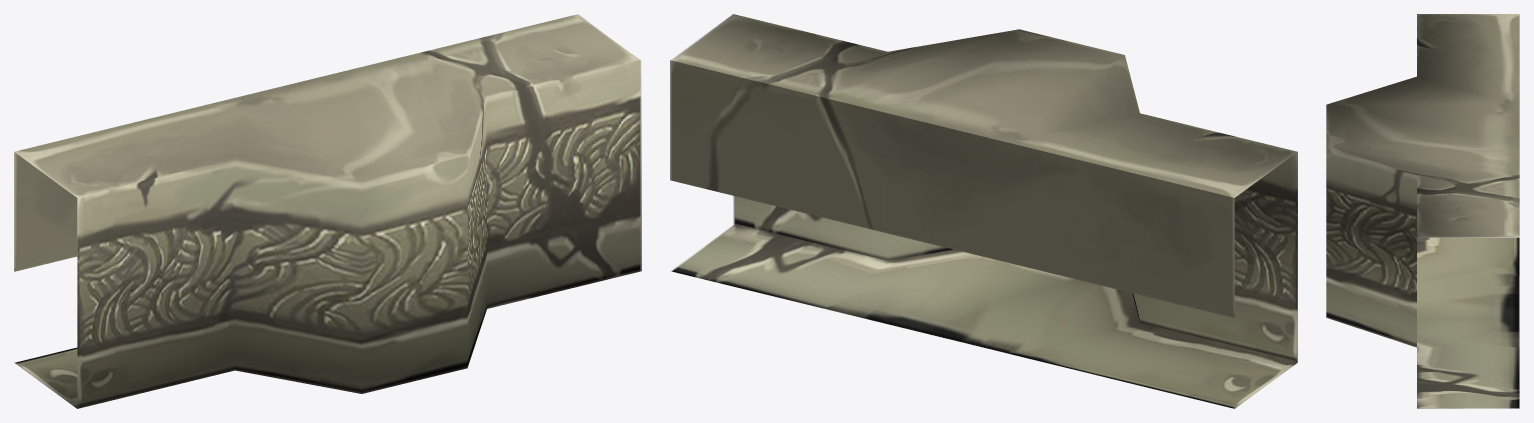
File: wall_top2.fbx
The picture shows the model from 3 angles, left to right: view 1: azimuth 30°, elevation 25°; view 2: azimuth 150°, elevation 25°; view 3: azimuth 270°, elevation 25°; orthographic projection. The views are drawn at different scales.
Parts seen in each view (by area): view 1: wallcap11; view 2: wallcap11; view 3: wallcap11.
Part boxes in pixels (bbox=[...]): wallcap11: bbox=[14, 14, 641, 408]; wallcap11: bbox=[670, 14, 1297, 408]; wallcap11: bbox=[1326, 14, 1519, 408].
Size of the model in its own units: 2 by 0.7144 by 0.7299.
